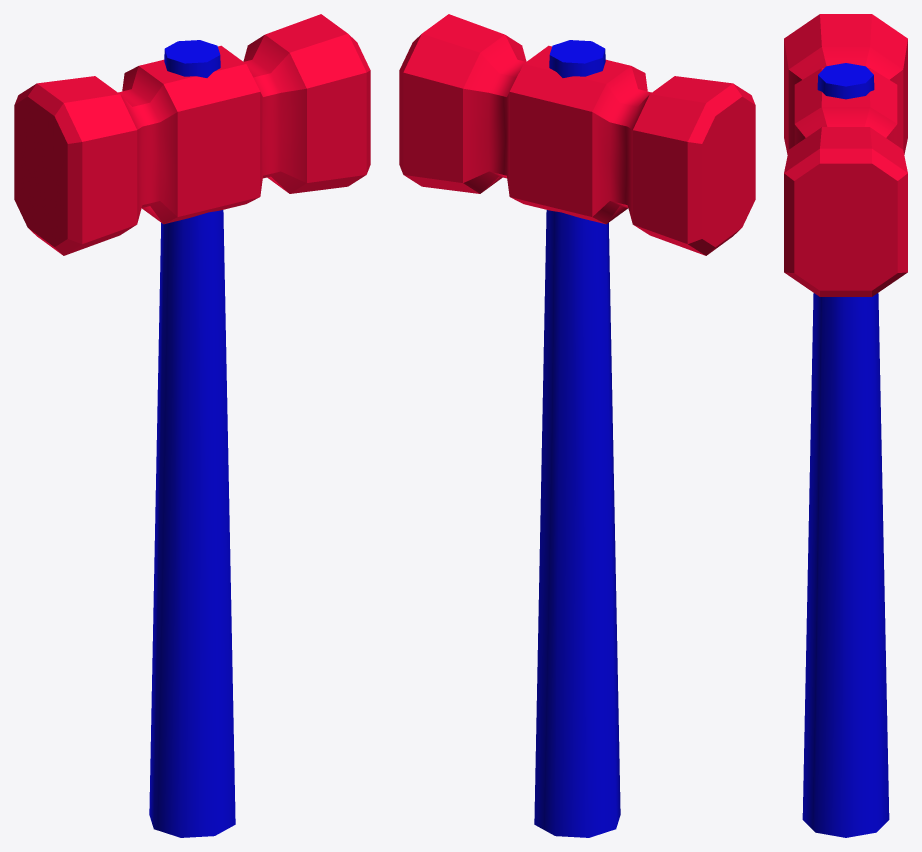
The model's file is Tools_Hammer.fbx.
The picture shows the model from 3 angles, left to right: view 1: azimuth 30°, elevation 25°; view 2: azimuth 150°, elevation 25°; view 3: azimuth 270°, elevation 25°; orthographic projection. The views are drawn at different scales.
Visible parts, largest first — view 1: Tools_Hammer; view 2: Tools_Hammer; view 3: Tools_Hammer.
Boxes of the visible parts, left/top/right/bottom form: Tools_Hammer: left=14, top=14, right=370, bottom=837; Tools_Hammer: left=399, top=14, right=755, bottom=837; Tools_Hammer: left=784, top=14, right=907, bottom=837.
Size of the model in its own units: 68.53 by 166 by 25.06.
